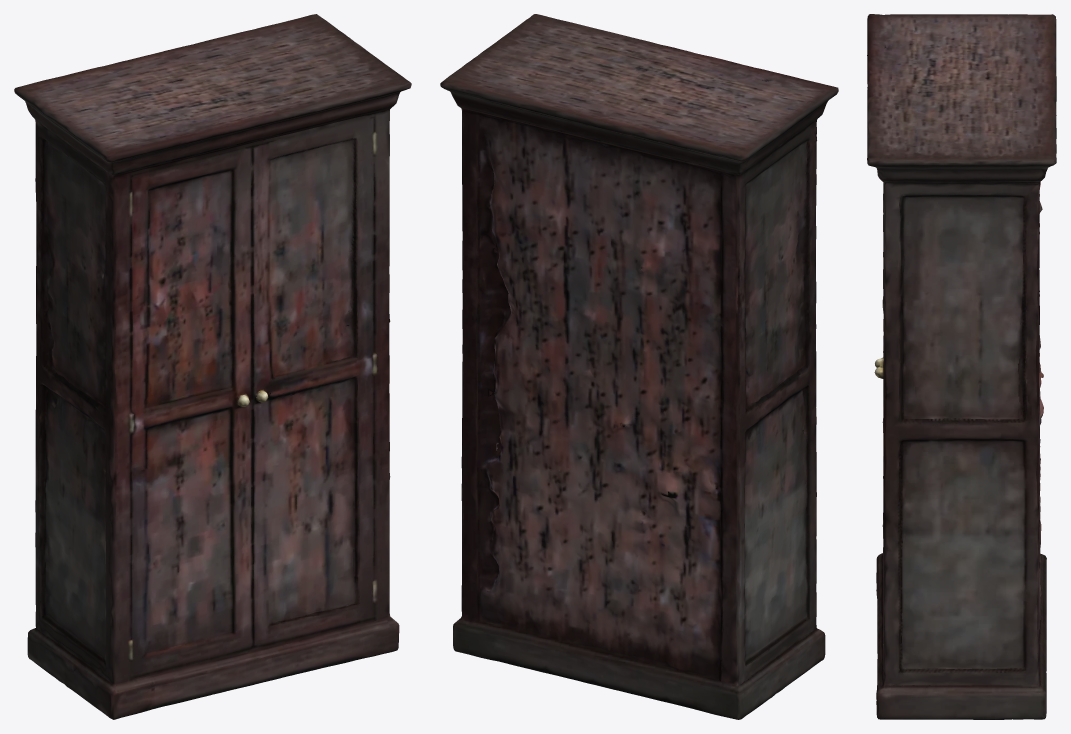
3 renders of one model, left to right at view 1: azimuth 30°, elevation 25°; view 2: azimuth 150°, elevation 25°; view 3: azimuth 270°, elevation 25°, orthographic.
Visible parts, largest first — view 1: Mesh_0; view 2: Mesh_0; view 3: Mesh_0.
Boxes of the visible parts, left/top/right/bottom form: Mesh_0: left=14, top=14, right=411, bottom=719; Mesh_0: left=440, top=14, right=838, bottom=719; Mesh_0: left=867, top=14, right=1056, bottom=719.
Size of the model in its own units: 1.13 by 2.01 by 0.6125.
Materials: 1 (1 with a texture image).
